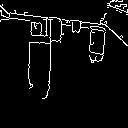cube: (25, 39, 62, 93), (86, 23, 111, 59), (46, 17, 66, 39), (70, 19, 84, 37)
